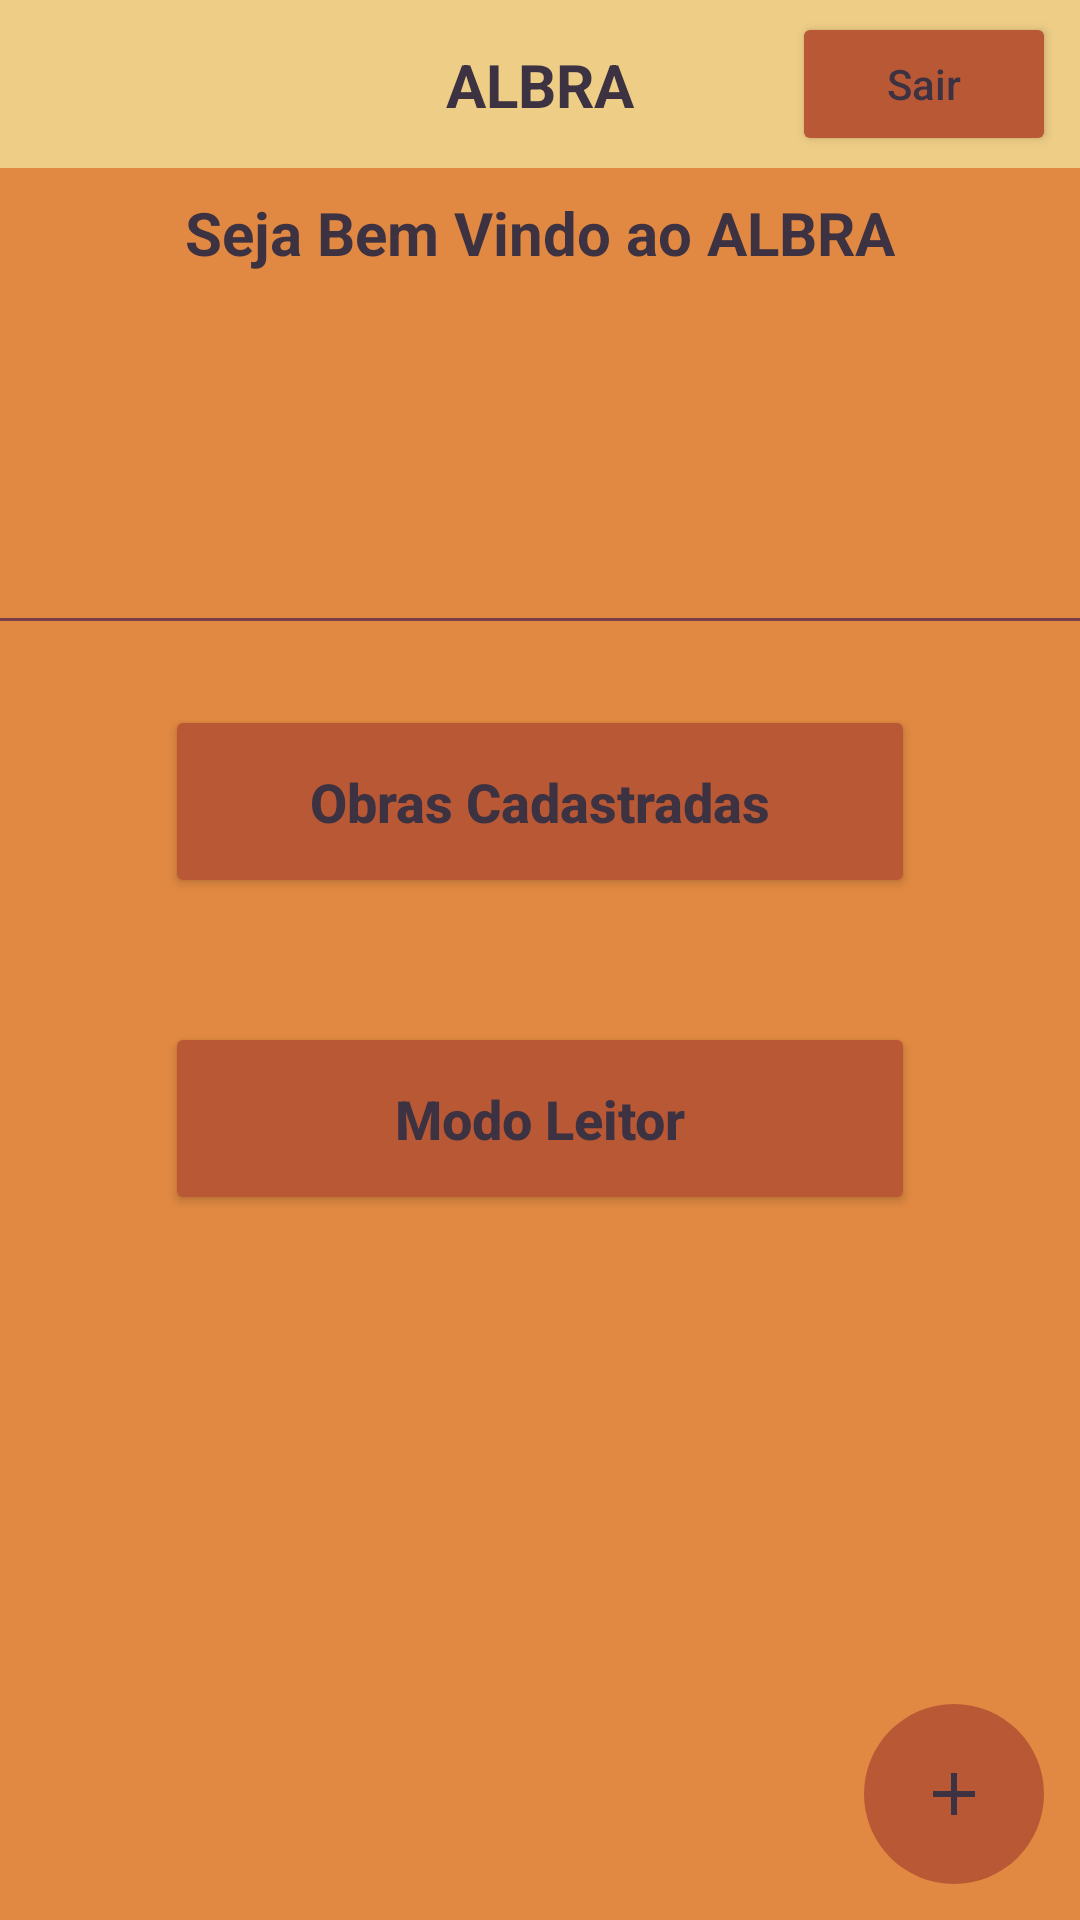

Icon click points for this 1080 × 1920 phone screenshot, format point (x, y):
Adicionar Obras: point (954, 1794)
